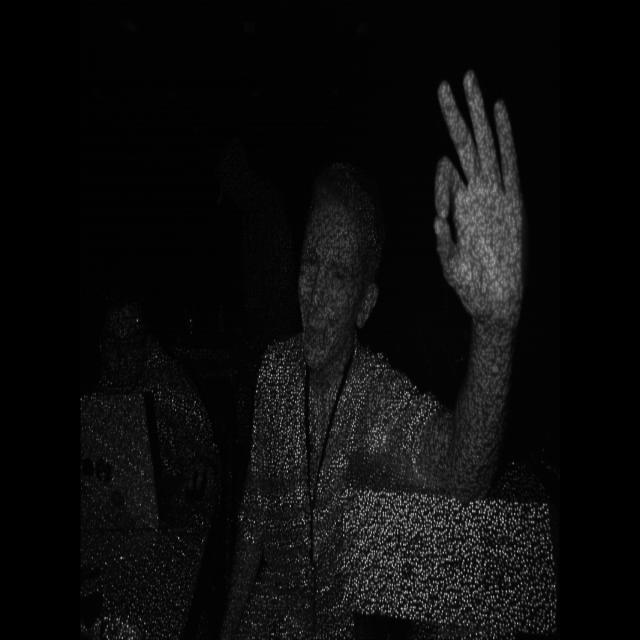F: (425, 59, 553, 327)
